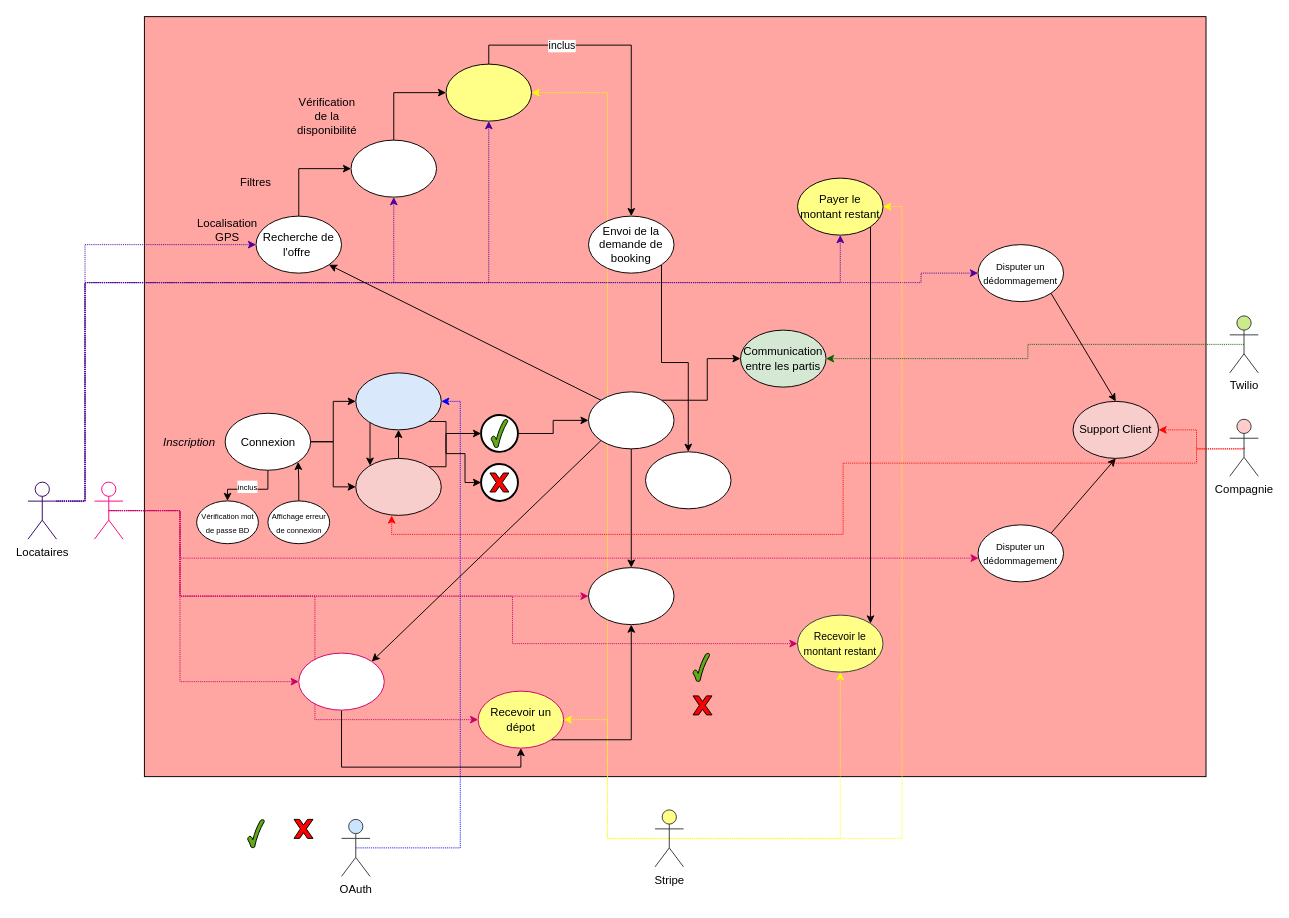
Image size: 1289x918. Some labels were removed from this diagram. Here are the shapes that lost their labels. From the top down, the centre of each, then its label:
At [488,92]: "Faire un dépot".
At [393,168]: "Réserver un véhicule".
At [398,401]: "Authentification de l'identité".
At [631,420]: "Accès aux fonctionnalités".
At [398,486]: "Admissibilité Assurances".
At [688,480]: "Gestion du profil".
At [108,510]: "Propriétaires".
At [631,596]: "Confirmation de booking".
At [341,681]: "Création de l'offre de location".
